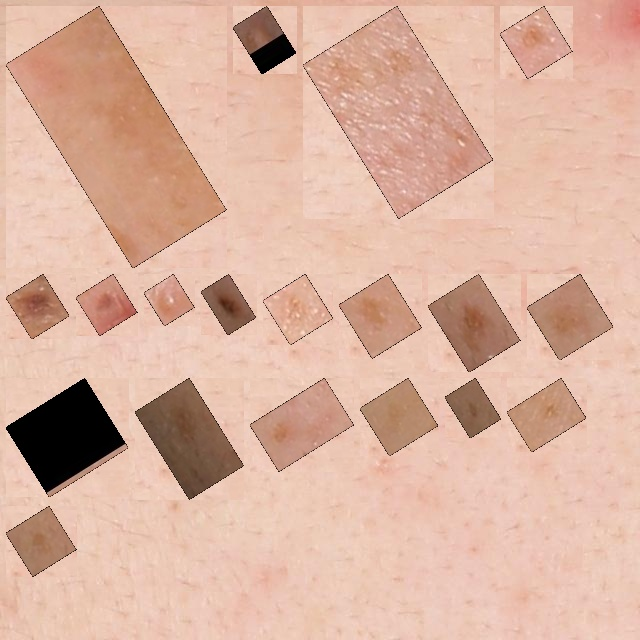melasma: (17, 17, 215, 257), (314, 17, 482, 207), (17, 389, 117, 486), (146, 389, 233, 488), (261, 389, 343, 460), (439, 285, 509, 361), (538, 285, 602, 349), (350, 285, 411, 347), (371, 389, 427, 445), (518, 389, 575, 441), (511, 17, 561, 67), (274, 285, 322, 334), (17, 517, 65, 565), (456, 389, 490, 427)
nevus: (17, 285, 58, 328), (87, 285, 126, 324), (212, 285, 245, 324)
pustule: (244, 17, 285, 63), (155, 285, 183, 315)
